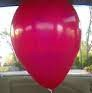Balloon: (11, 1, 81, 89)
